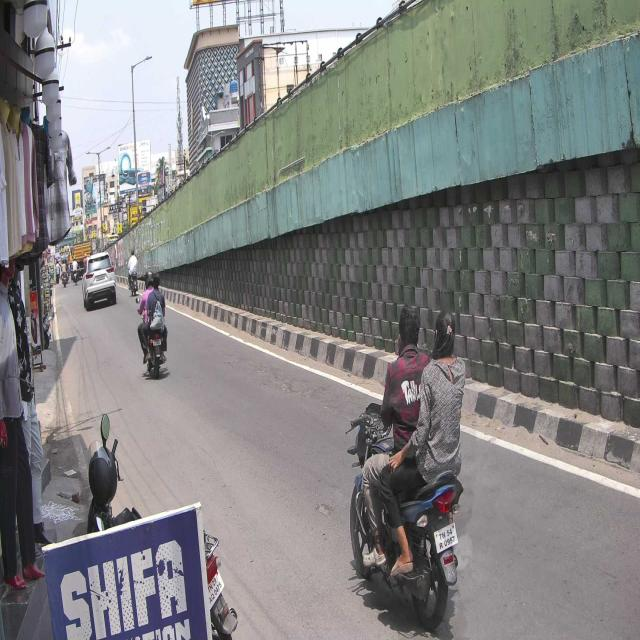double_rider: (350, 303, 466, 626)
